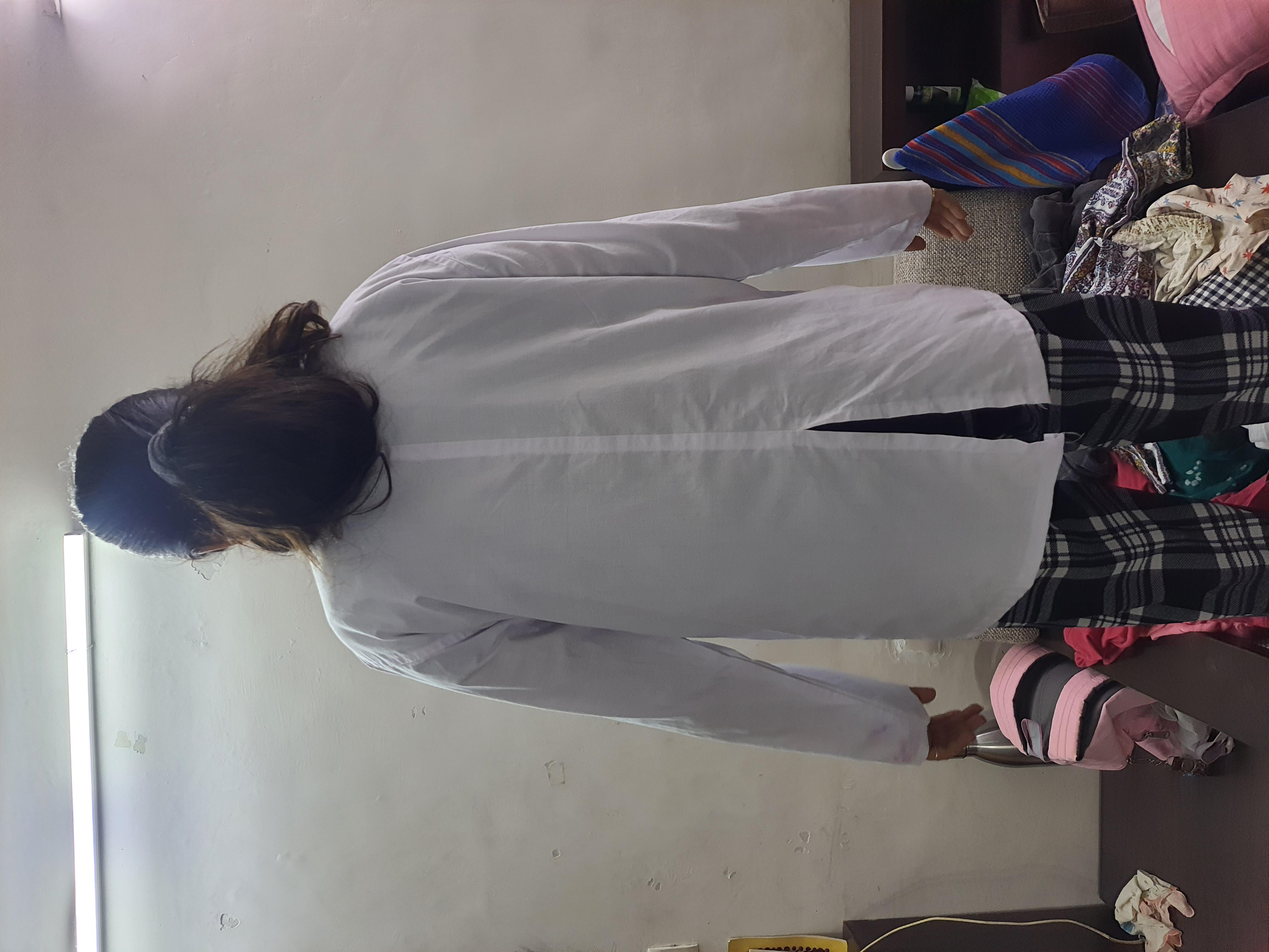Lab_coat: (251, 237, 1026, 797)
